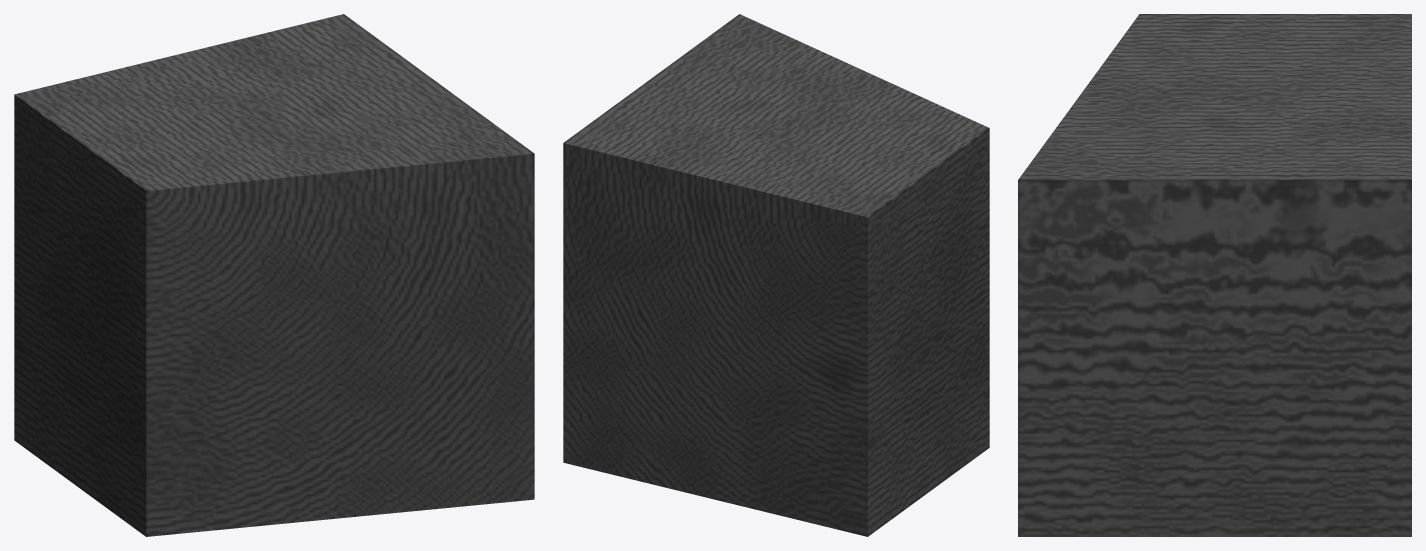
The picture shows the model from 3 angles, left to right: view 1: azimuth 30°, elevation 25°; view 2: azimuth 150°, elevation 25°; view 3: azimuth 270°, elevation 25°; orthographic projection. The views are drawn at different scales.
Parts seen in each view (by area): view 1: 4; view 2: 4; view 3: 4.
Part boxes in pixels (x1,y1,x2,y2): 4: (14,14,534,536); 4: (563,14,989,536); 4: (1018,14,1411,536).
Bounding box in the file's own units: 1.99 × 2 × 2.
Materials: 1 (1 with a texture image).
